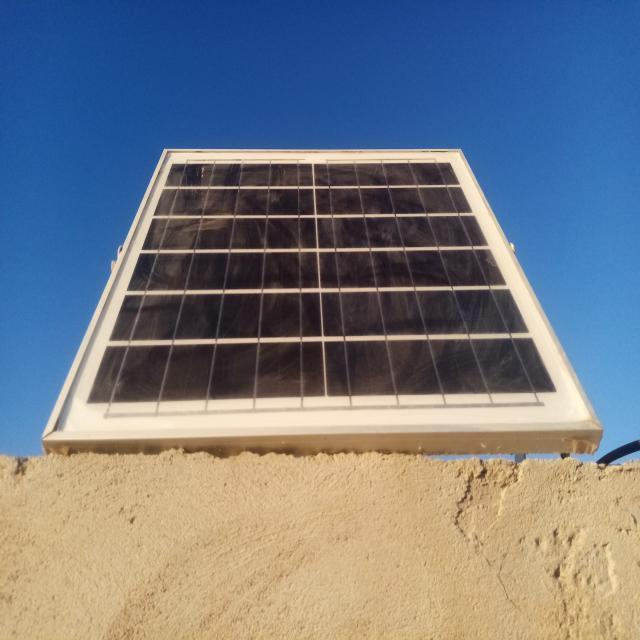faulty: (51, 150, 600, 429)
